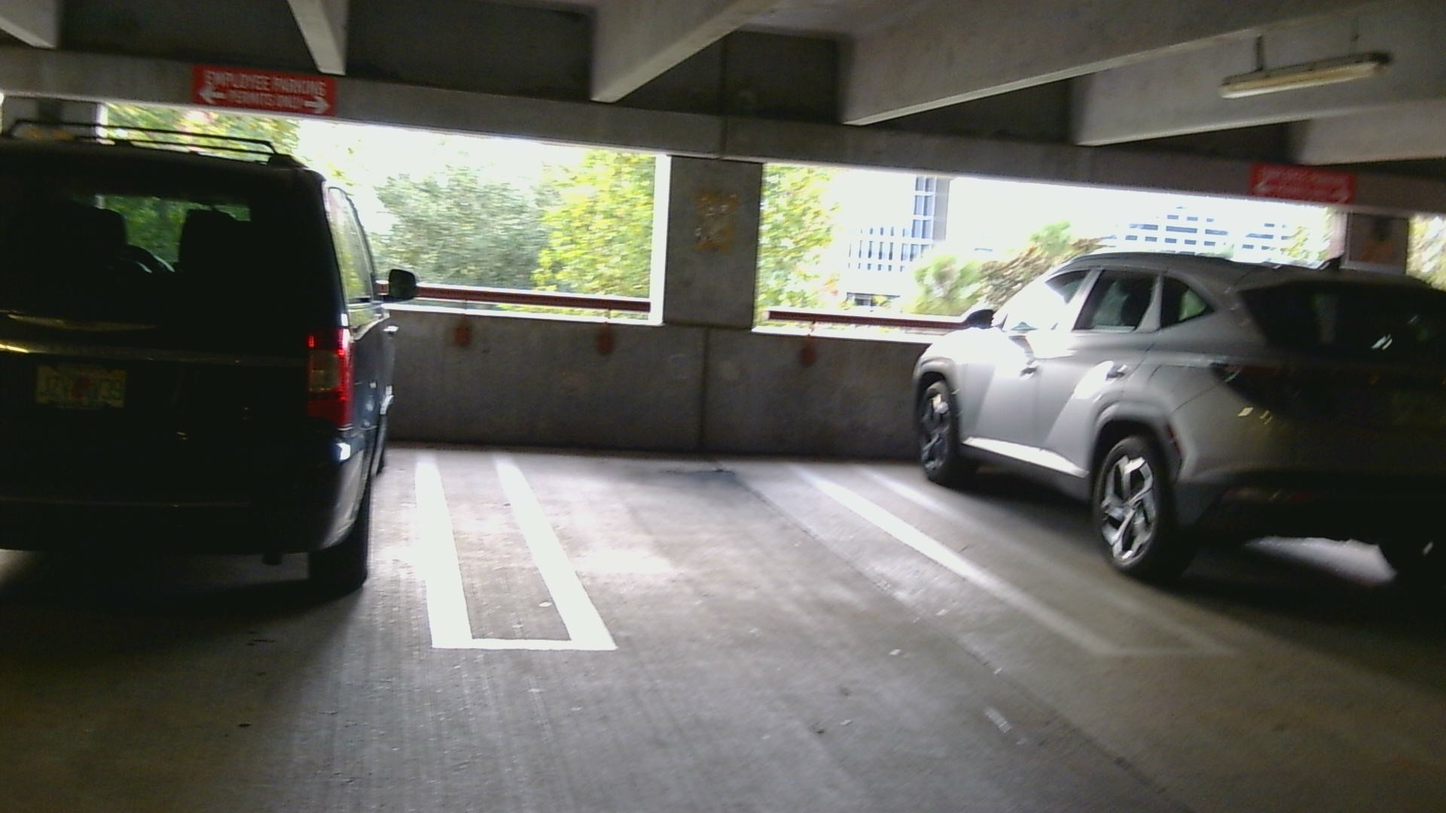empty_spot: (451, 352, 1155, 654)
occupied_spot: (0, 129, 399, 611), (900, 239, 1446, 586)
